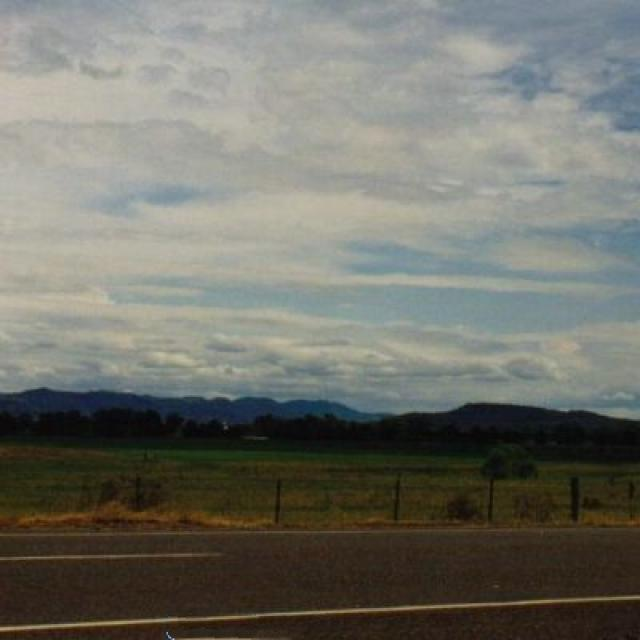Cs: (5, 17, 640, 369)
